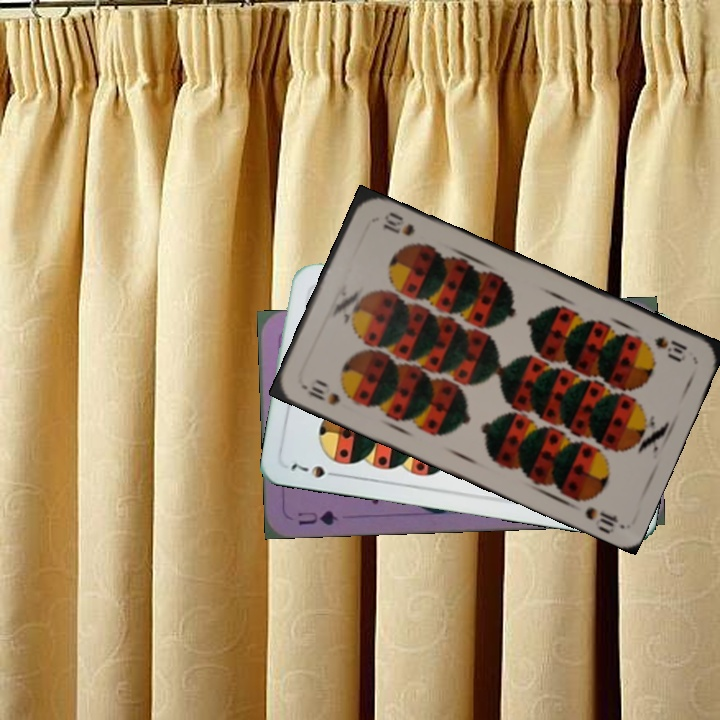GU: (294, 506, 341, 528)
S10: (649, 331, 690, 362), (304, 382, 343, 408)
S7: (286, 459, 343, 481)
